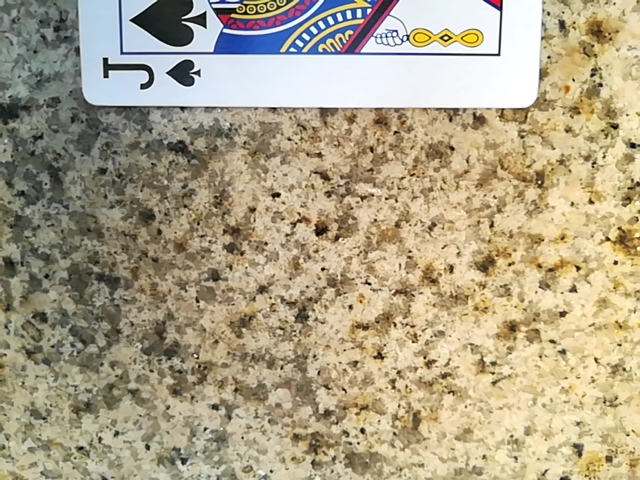ht j: (66, 0, 553, 106)
